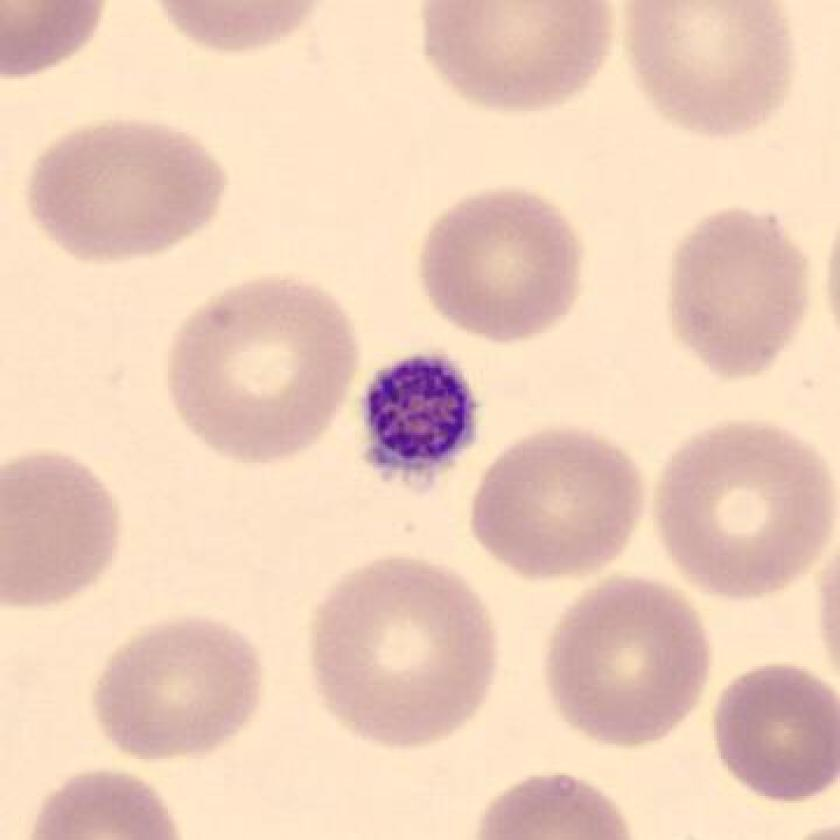platelets: (354, 346, 487, 496)
